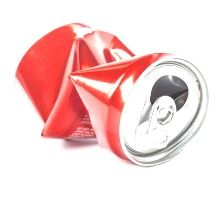can: (9, 18, 215, 177)
